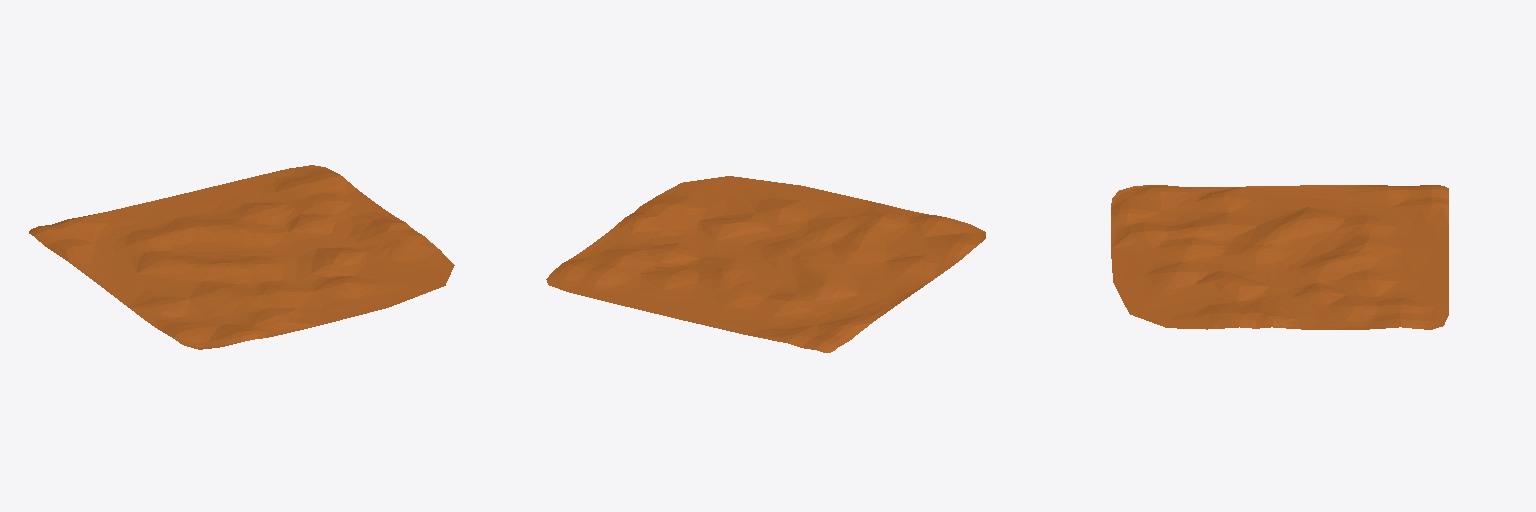
File: Ground03.obj
The picture shows the model from 3 angles: view 1: azimuth 30°, elevation 25°; view 2: azimuth 150°, elevation 25°; view 3: azimuth 270°, elevation 25°; orthographic projection.
Parts seen in each view (by area): view 1: Plane; view 2: Plane; view 3: Plane.
Boxes of the visible parts, <box> form: Plane: <box>29,165,454,349</box>; Plane: <box>546,176,985,352</box>; Plane: <box>1111,185,1448,329</box>.
Size of the model in its own units: 50.01 by 0.9027 by 50.01.